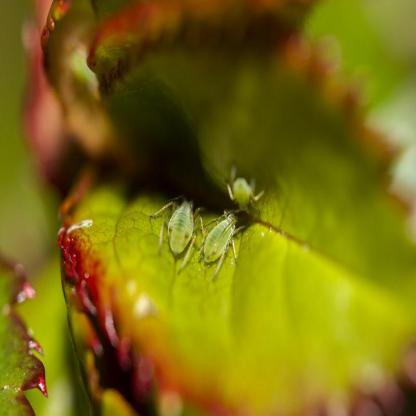aphid: (152, 196, 206, 267), (200, 201, 244, 274), (216, 162, 266, 212)
